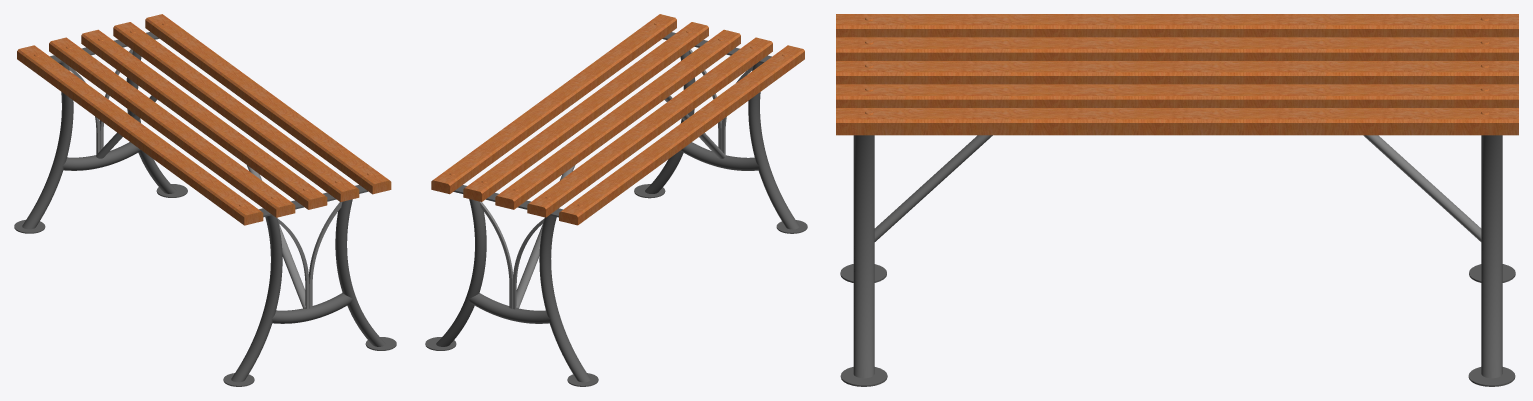
The model's file is locker-bench.glb.
The picture shows the model from 3 angles, left to right: view 1: azimuth 30°, elevation 25°; view 2: azimuth 150°, elevation 25°; view 3: azimuth 270°, elevation 25°; orthographic projection. The views are drawn at different scales.
Visible parts, largest first — view 1: Geom3D (×13), Geom3D_; view 2: Geom3D (×13), Geom3D_; view 3: Geom3D (×7), Geom3D_ (×4).
Part boxes in pixels (left/top/right/bottom): Geom3D (×13): left=17, top=14, right=391, bottom=382; Geom3D_: left=247, top=165, right=305, bottom=308; Geom3D (×13): left=431, top=14, right=804, bottom=382; Geom3D_: left=516, top=165, right=575, bottom=308; Geom3D (×7): left=836, top=14, right=1518, bottom=378; Geom3D_ (×4): left=840, top=135, right=1515, bottom=386.
Size of the model in its own units: 0.5025 by 0.4902 by 1.17.
3 materials, 1 textured.
